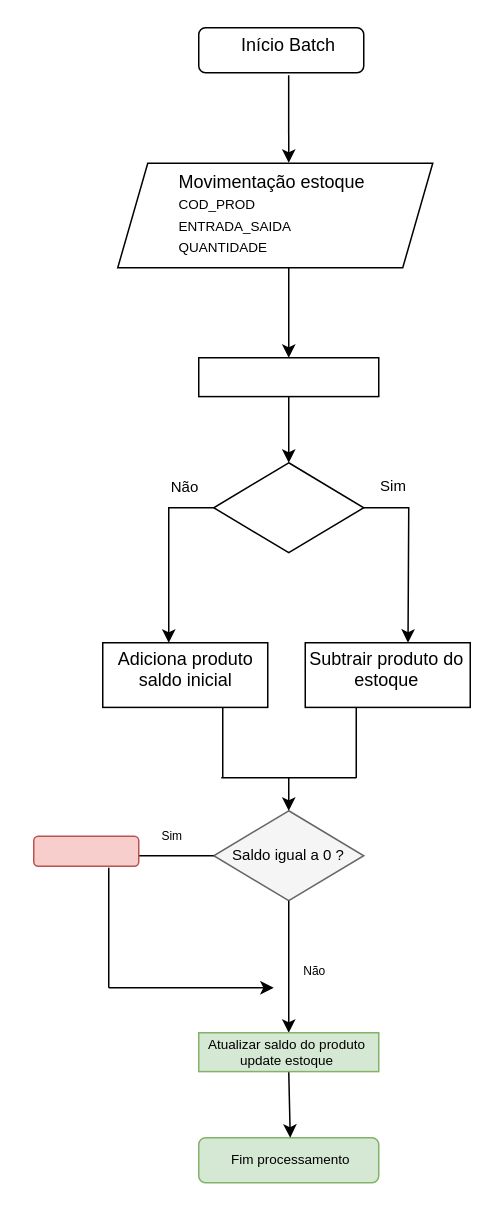
Some shapes in this 497 by 1209 pixel diagram are drawn without their labels. The box of each missing label's shape, as (x1, y1, x2, y2) in pixels:
Deletar produto: (32, 835, 139, 866)
Pesquisar produto no estoque: (197, 356, 379, 397)
Produto existe ?: (212, 461, 364, 553)
